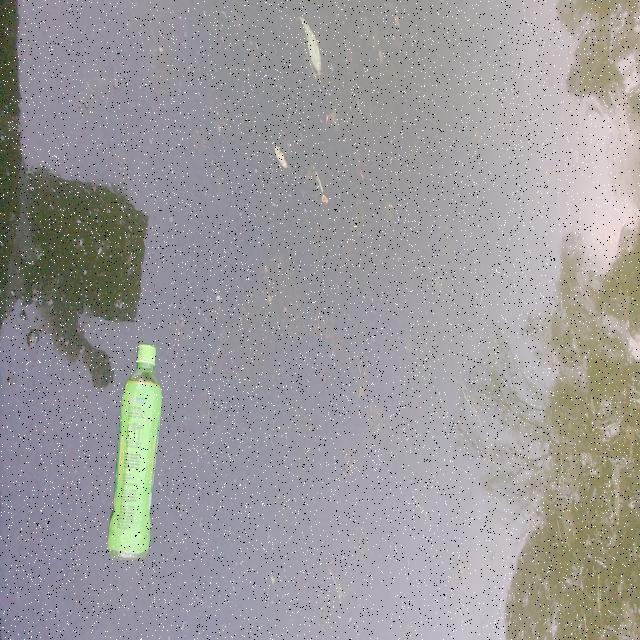Bottle: (105, 338, 163, 562)
